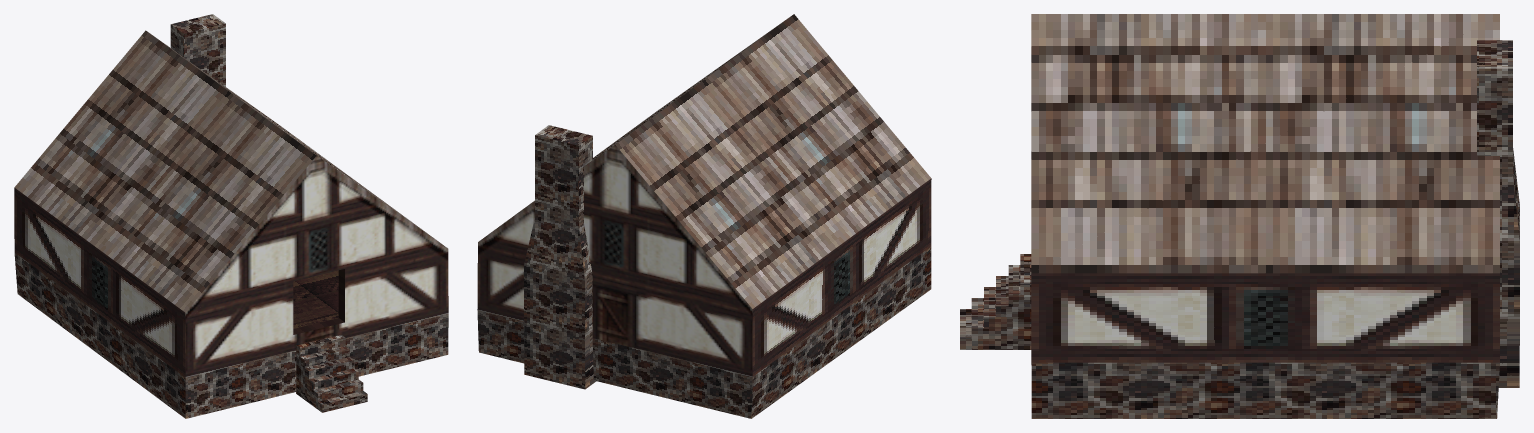
Rendered from House2.fbx.
The picture shows the model from 3 angles, left to right: view 1: azimuth 30°, elevation 25°; view 2: azimuth 150°, elevation 25°; view 3: azimuth 270°, elevation 25°; orthographic projection. The views are drawn at different scales.
Parts seen in each view (by area): view 1: HOUSE2; view 2: HOUSE2; view 3: HOUSE2.
Part boxes in pixels (x1,y1,x2,y2): HOUSE2: (14, 14, 448, 418); HOUSE2: (477, 14, 931, 418); HOUSE2: (960, 14, 1519, 418).
Bounding box in the file's own units: 51.45 × 43.71 × 69.18.
